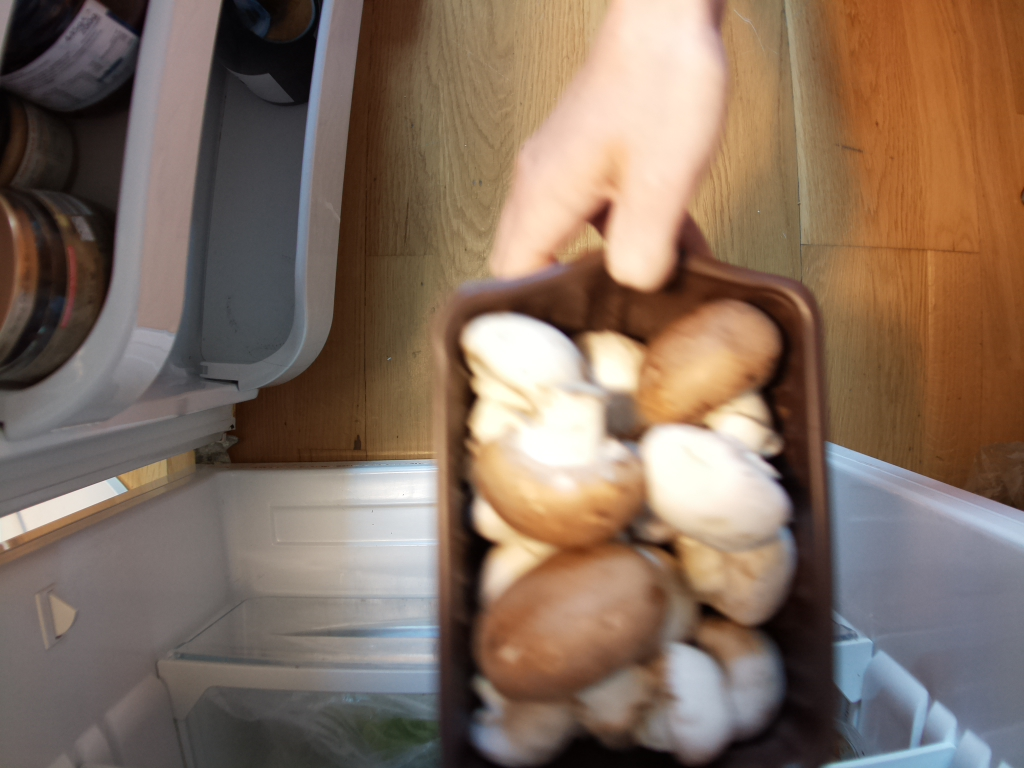mushrooms: (439, 279, 825, 768)
